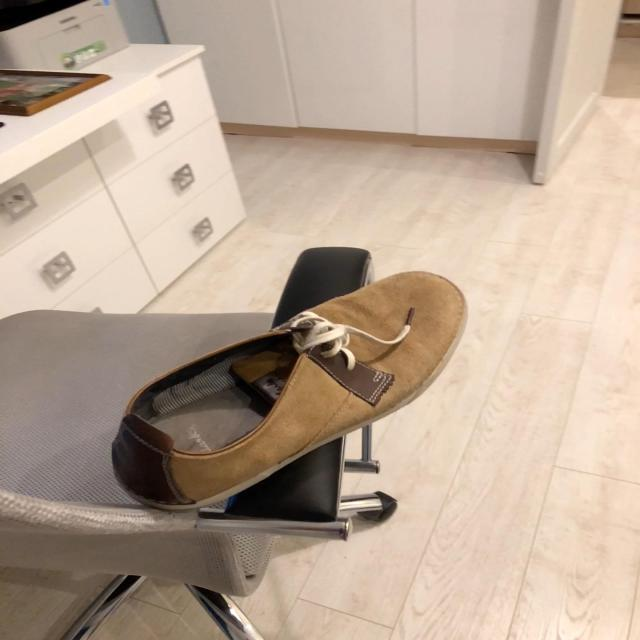shoe: (110, 250, 466, 516)
